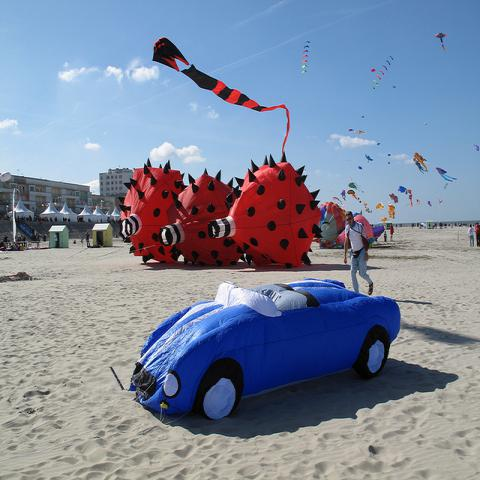car: (130, 277, 404, 419)
